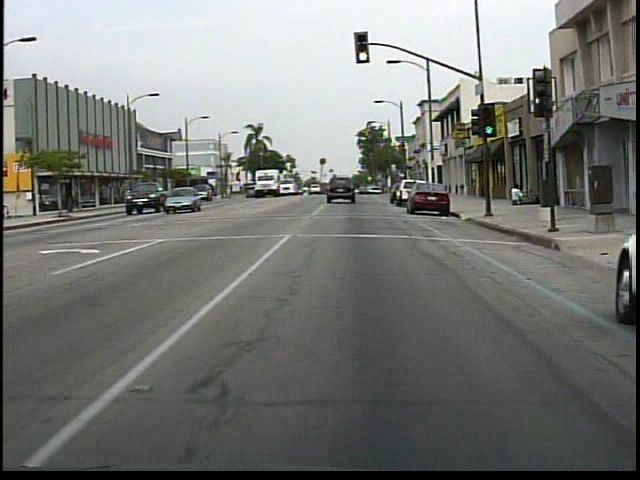person: (506, 182, 523, 207)
